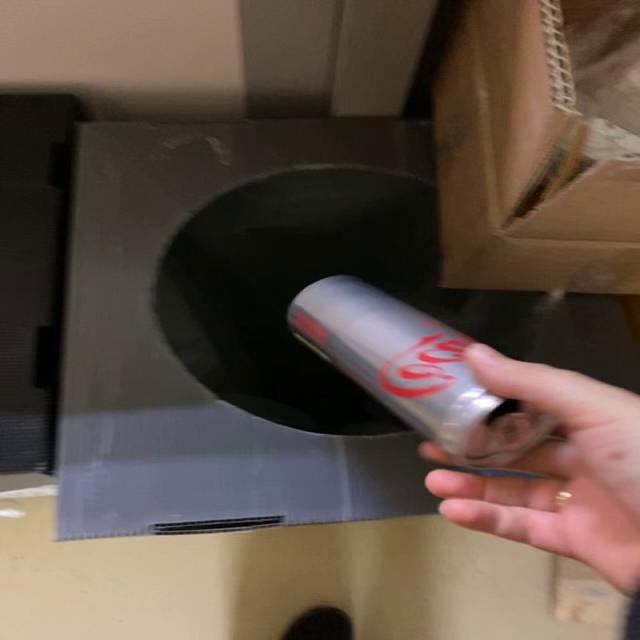bin: (60, 118, 637, 540)
metal: (287, 276, 549, 468)
